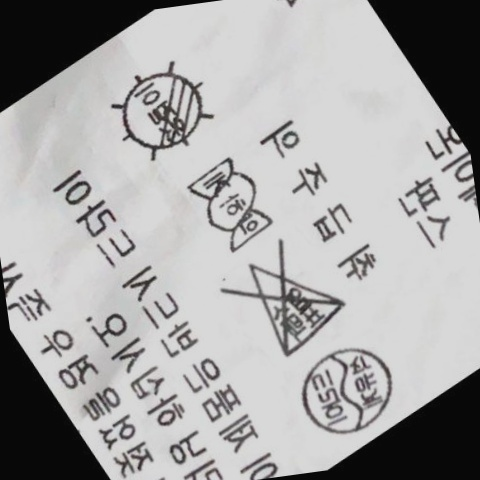dry_clean_petrol_only: (288, 341, 400, 440)
line_dry_in_shade: (107, 61, 219, 166)
non_chlorine_bleach: (231, 241, 345, 361)
wring: (180, 157, 275, 256)
